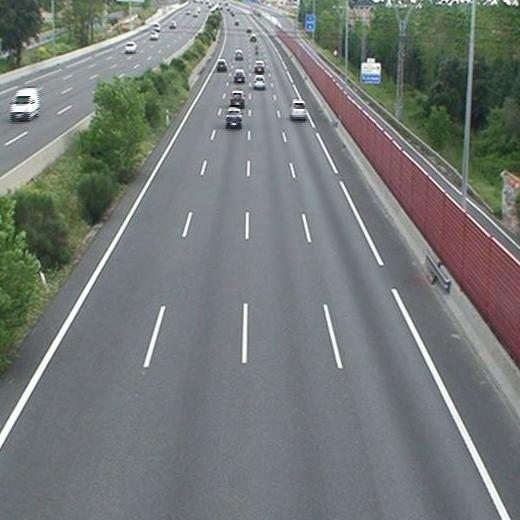car: (289, 100, 306, 119), (226, 108, 243, 127), (230, 91, 245, 106), (233, 69, 245, 82), (253, 75, 266, 87), (254, 61, 265, 72), (216, 60, 227, 71), (234, 51, 243, 60), (250, 35, 257, 42)
